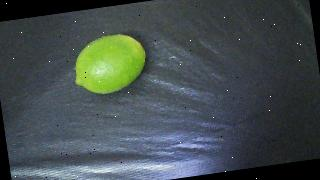LOCAL: (69, 31, 149, 98)
